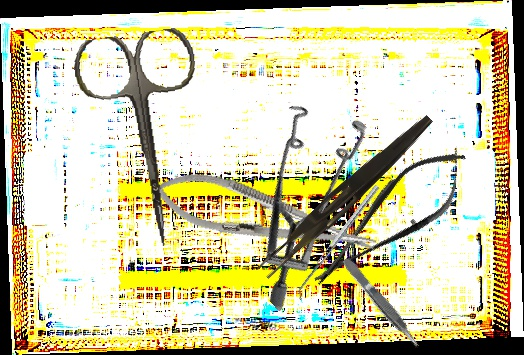Dressing Forceps: (256, 106, 436, 285)
Iris Scissors: (70, 25, 222, 255)
Micro Scissor: (295, 133, 485, 304)
Needle Holder: (142, 159, 383, 274)
Spatula Surgical: (292, 184, 385, 301)
Speculum: (182, 77, 421, 313)
Tissue Forceps: (340, 254, 424, 352)
